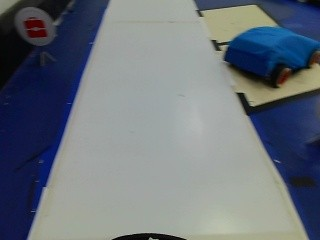car: (208, 21, 318, 94)
company: (12, 8, 55, 44)
